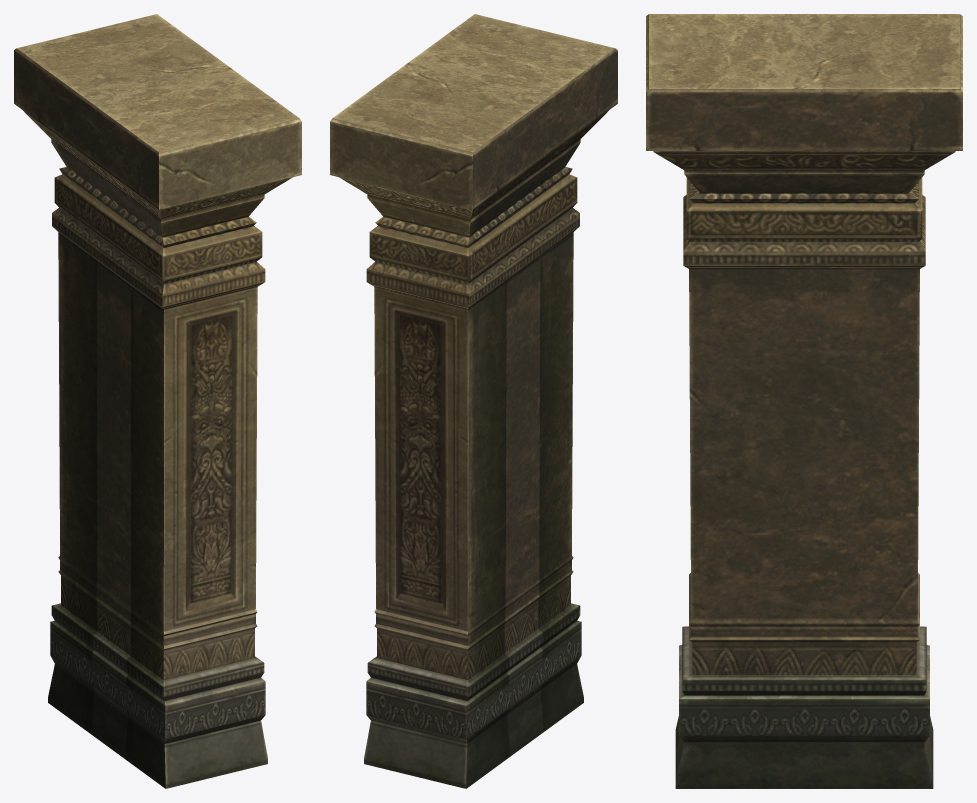
The model's file is thunder_ruins_pillar00.fbx.
3 views of the same model, side by side, from view 1: azimuth 30°, elevation 25°; view 2: azimuth 150°, elevation 25°; view 3: azimuth 270°, elevation 25° (orthographic). The views are drawn at different scales.
Parts seen in each view (by area): view 1: Pillar_1; view 2: Pillar_1; view 3: Pillar_1.
Part boxes in pixels (x1,y1,x2,y2): Pillar_1: (14, 14, 301, 788); Pillar_1: (330, 14, 617, 788); Pillar_1: (646, 14, 962, 788).
Size of the model in its own units: 6.83 by 29.72 by 12.02.
